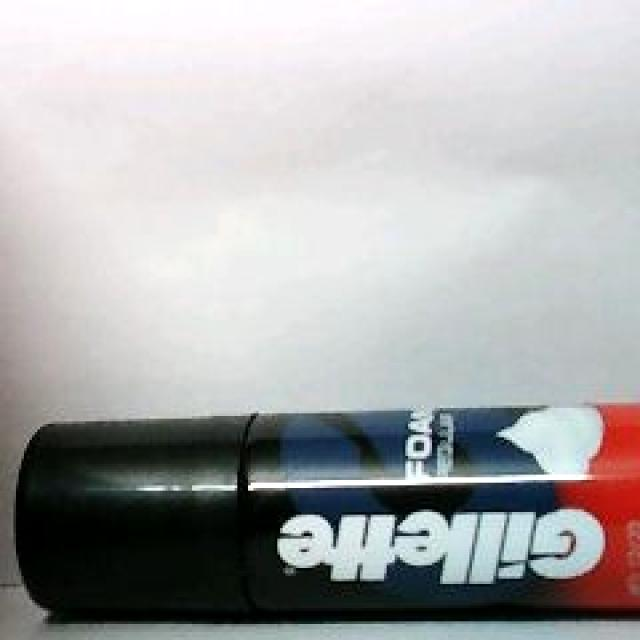gillette-foam: (19, 403, 637, 627)
